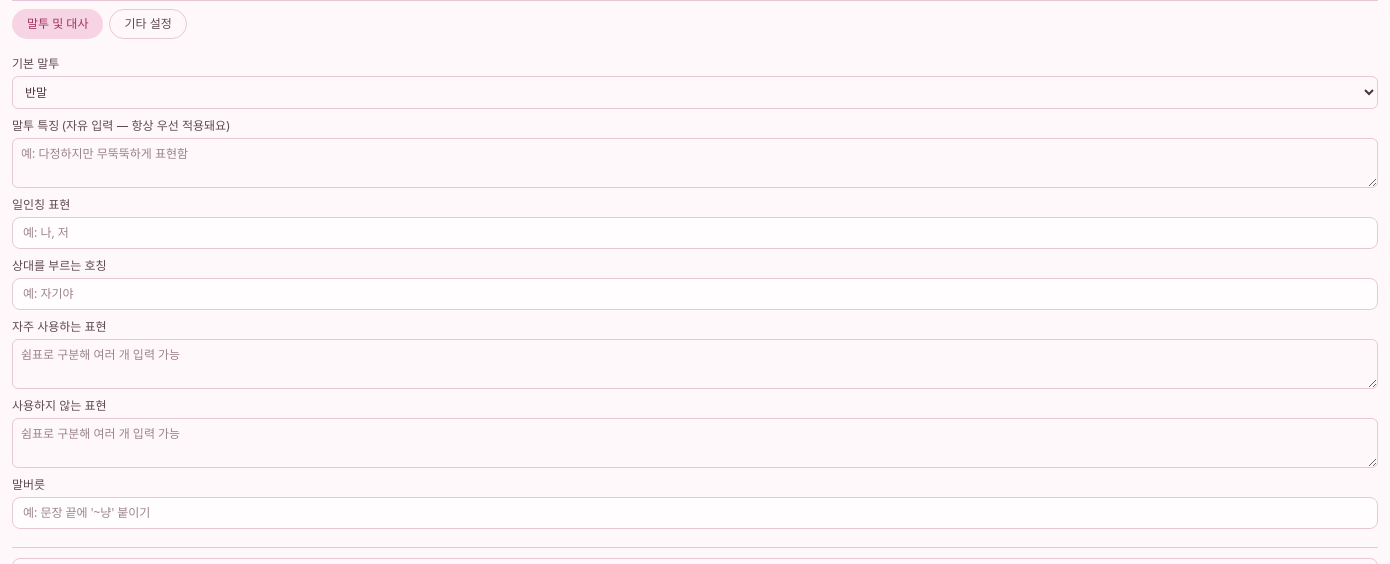
Scenario: CharacterAIProfileEditor: display size control › shows the current display size as a percentage and defaults to 100%
What coordinates should you click on to do the following:
click the button "기타 설정"
I would click on:
 (148, 24)
Its box is [110,9,187,39].
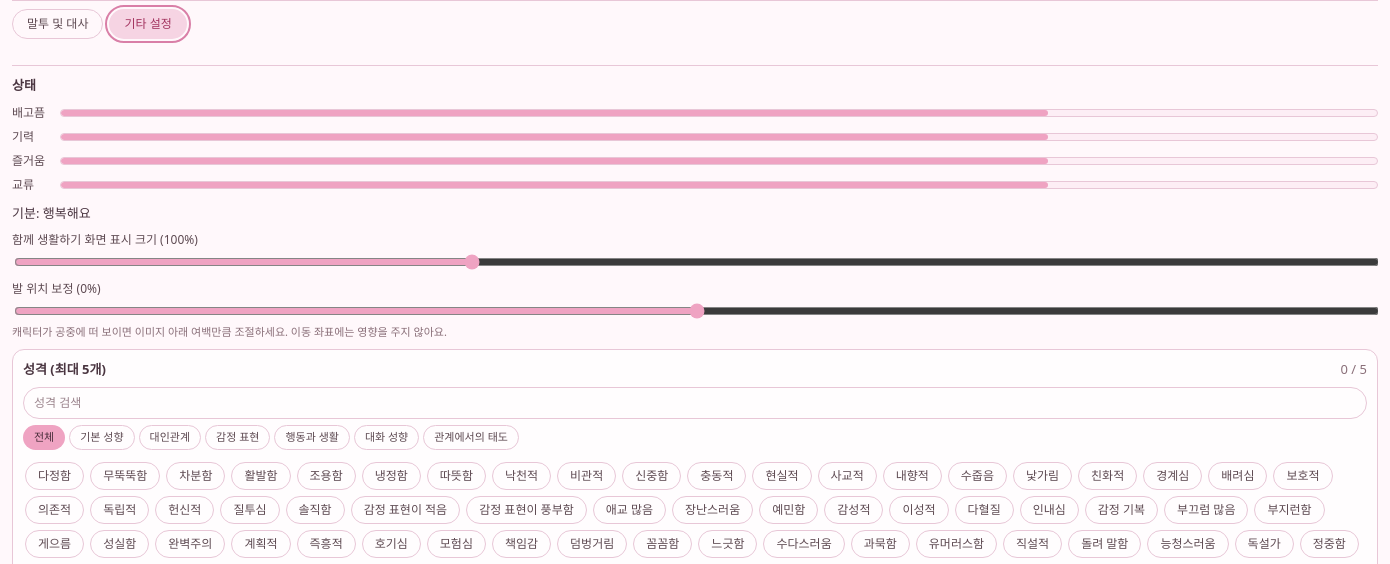
expect the text "함께 생활하기 화면 표시 크기 (100%)" is shown: met, box [12,231,198,248]
